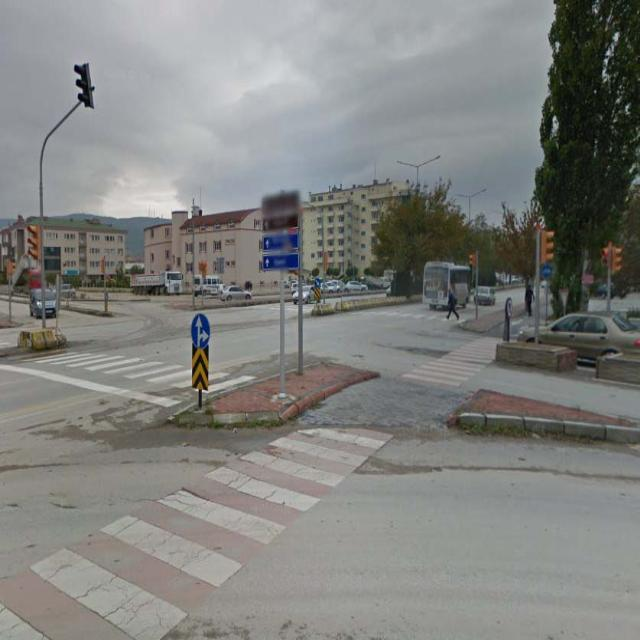ilerisag: (190, 314, 210, 346)
